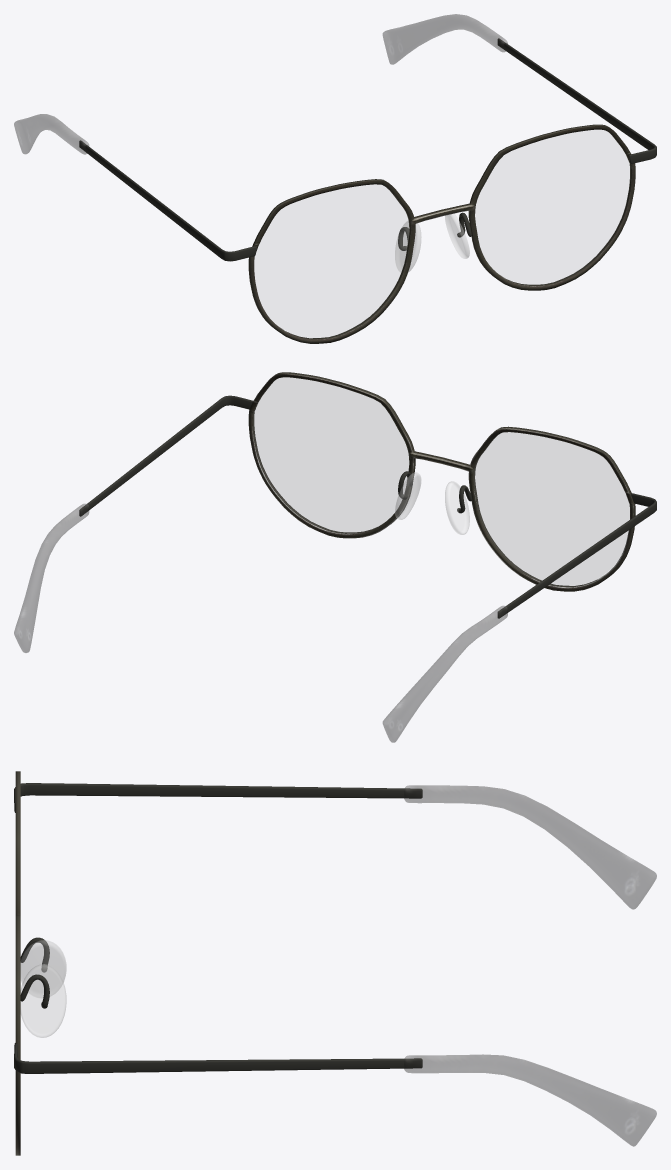
File: variant-7.glb
The picture shows the model from 3 angles, top to bottom: view 1: azimuth 30°, elevation 25°; view 2: azimuth 150°, elevation 25°; view 3: azimuth 270°, elevation 25°; orthographic projection. The views are drawn at different scales.
Parts seen in each view (by area): view 1: verre.002, monture.004, monture.005; view 2: verre.002, monture.005, monture.004; view 3: monture.005, monture.004.
Part boxes in pixels (x1,y1,x2,y2): verre.002: (254, 130, 629, 337); monture.004: (248, 124, 635, 343); monture.005: (14, 14, 656, 261); verre.002: (253, 377, 629, 586); monture.005: (14, 395, 656, 742); monture.004: (248, 372, 635, 591); monture.005: (14, 783, 656, 1146); monture.004: (15, 771, 66, 1155).
Bounding box in the file's own units: 2.14 × 0.7286 × 2.07.
Materials: 5 (2 with a texture image).
